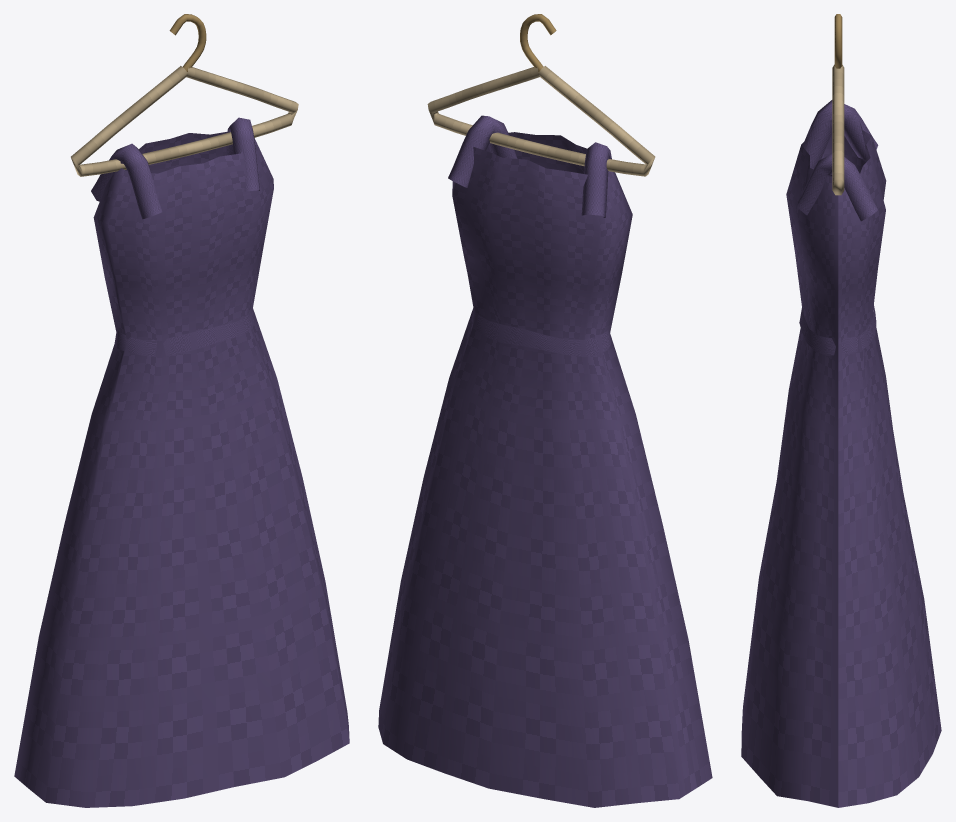
The picture shows the model from 3 angles, left to right: view 1: azimuth 30°, elevation 25°; view 2: azimuth 150°, elevation 25°; view 3: azimuth 270°, elevation 25°; orthographic projection. The views are drawn at different scales.
Visible parts, largest first — view 1: fabric_iris, ash_grain, aged_brass; view 2: fabric_iris, ash_grain, aged_brass; view 3: fabric_iris, ash_grain, aged_brass.
Boxes of the visible parts, x1,y1,x2,y2 form: fabric_iris: (14, 117, 349, 807); ash_grain: (71, 66, 298, 176); aged_brass: (169, 14, 206, 71); fabric_iris: (378, 115, 712, 807); ash_grain: (427, 66, 655, 176); aged_brass: (520, 14, 556, 72); fabric_iris: (741, 100, 941, 807); ash_grain: (832, 64, 844, 195); aged_brass: (834, 14, 842, 68).
Size of the model in its own units: 0.66 by 1.46 by 0.3689.
Materials: 3 (2 with a texture image).
